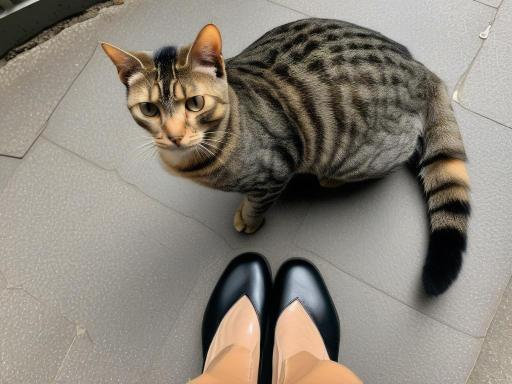cat_sitting: (102, 18, 470, 295)
